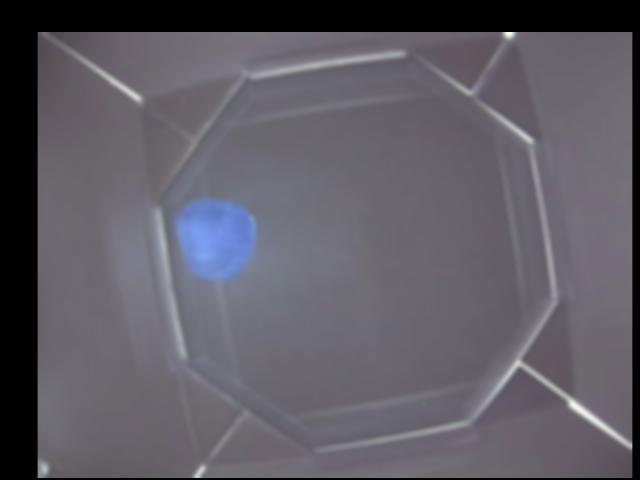Potato: (180, 199, 256, 276)
